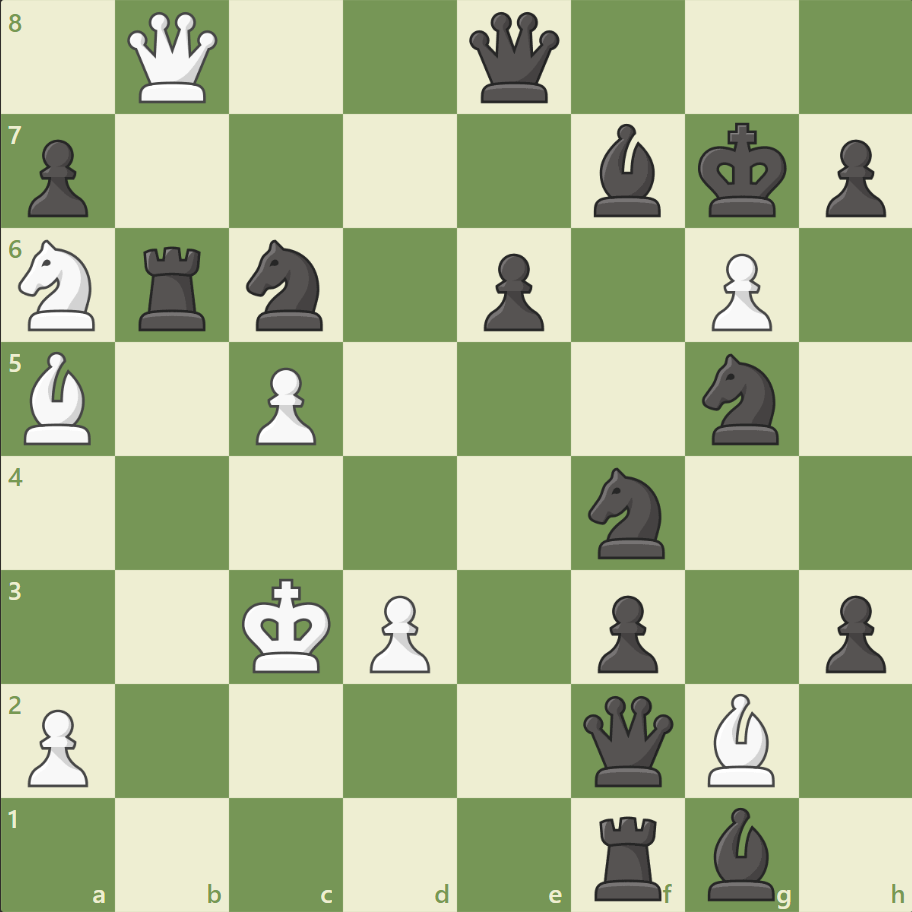B: (698, 687, 782, 790), (17, 347, 101, 449)
K: (238, 571, 338, 679)
N: (11, 234, 108, 337)
P: (701, 246, 776, 337), (247, 359, 322, 450), (20, 700, 95, 791), (361, 586, 435, 677)
Q: (124, 9, 223, 108)
b: (698, 801, 782, 904), (585, 120, 669, 222)
k: (692, 117, 792, 225)
n: (238, 234, 335, 337), (579, 461, 676, 564), (692, 348, 789, 450)
p: (20, 132, 95, 223), (474, 246, 549, 337), (815, 132, 889, 223), (588, 586, 662, 677), (815, 586, 889, 677)
q: (464, 9, 563, 108), (578, 690, 677, 789)
r: (587, 806, 670, 904), (133, 239, 215, 336)
